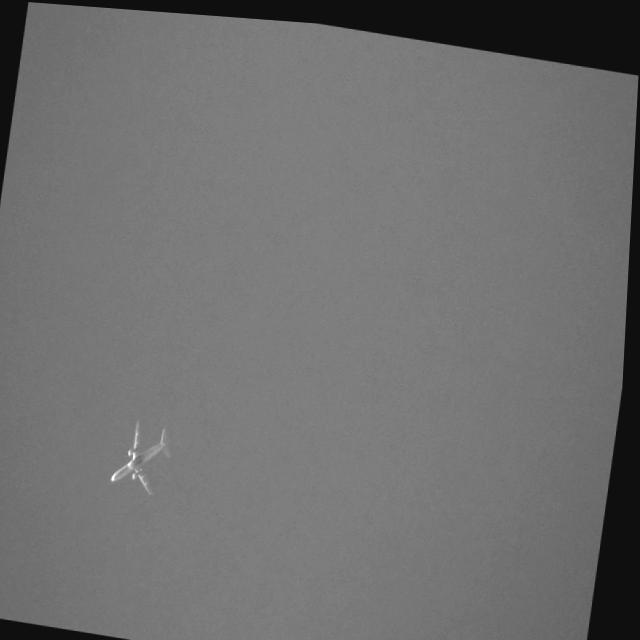aeroplane: (112, 407, 180, 500)
